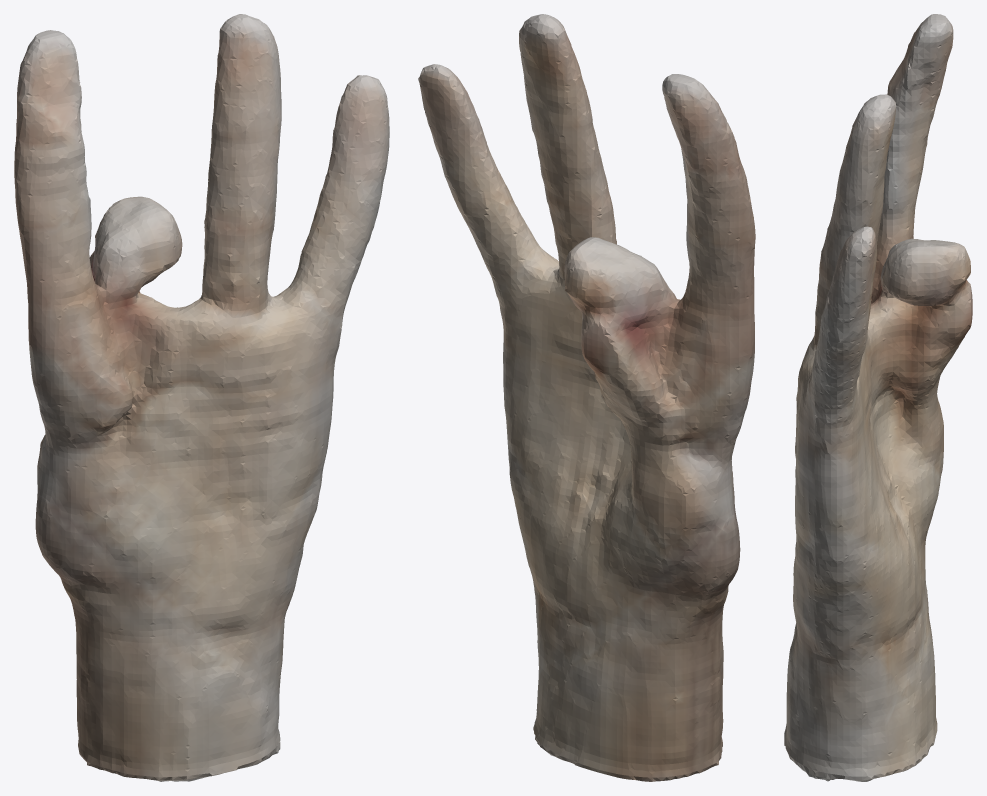
File: ASL8.glb
The picture shows the model from 3 angles, left to right: view 1: azimuth 30°, elevation 25°; view 2: azimuth 150°, elevation 25°; view 3: azimuth 270°, elevation 25°; orthographic projection. The views are drawn at different scales.
Visible parts, largest first — view 1: world; view 2: world; view 3: world.
Boxes of the visible parts, box(x1,y1,x2,y2) form: world: box(14, 14, 389, 781); world: box(418, 14, 755, 781); world: box(784, 14, 972, 781).
Size of the model in its own units: 1.02 by 1.99 by 0.4979.
